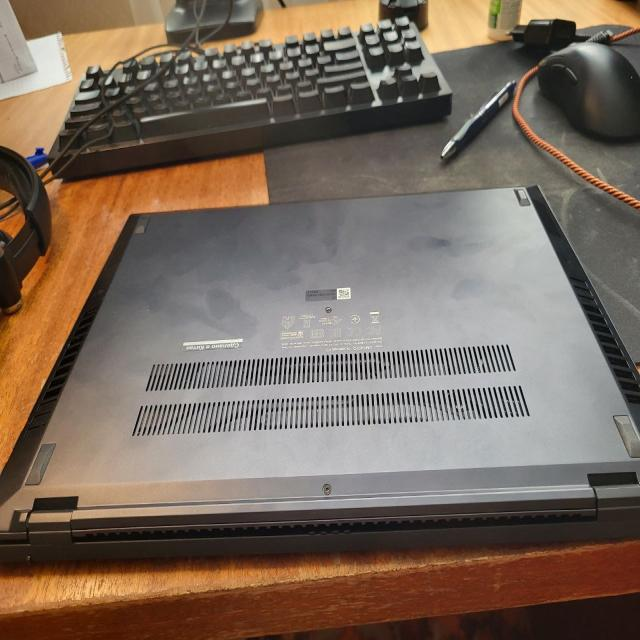other: (226, 201, 355, 290), (151, 276, 260, 350), (399, 213, 503, 260), (441, 268, 494, 317)
